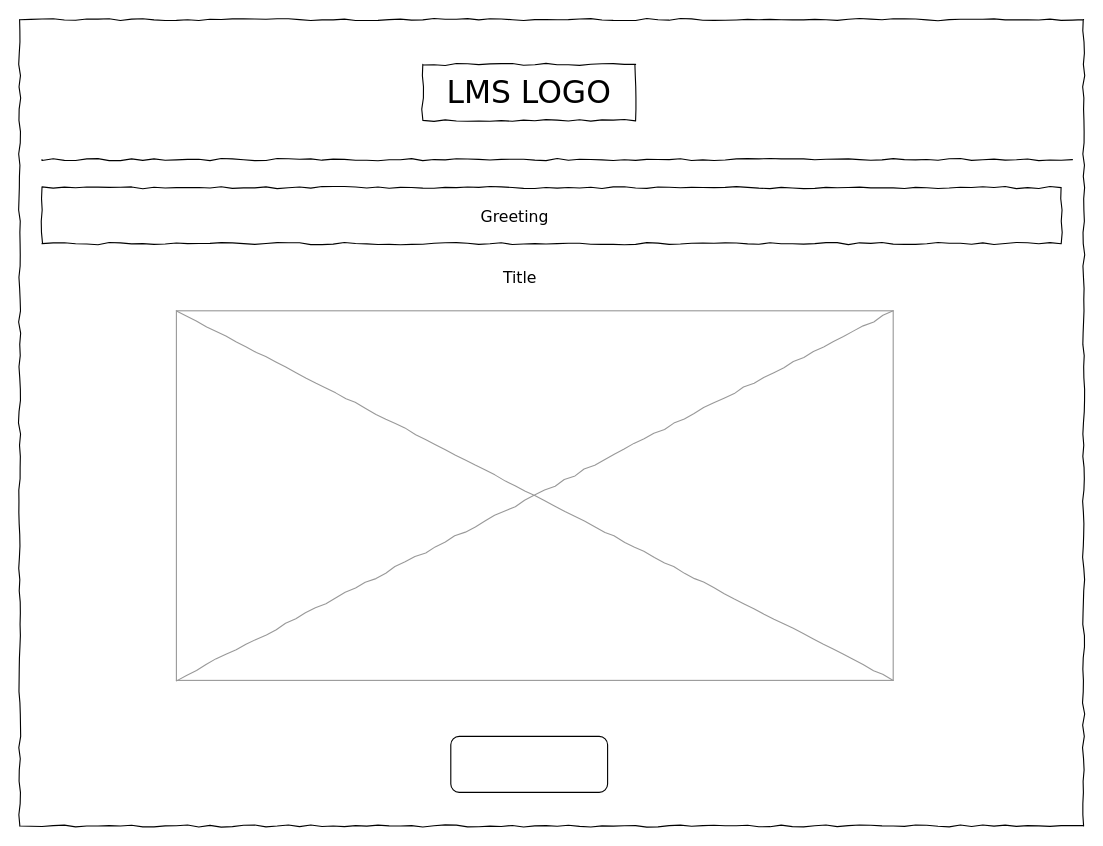
Image size: 1103x846. Some labels were removed from this diagram. The shapes that lost their labels are listed below. From the top down, each one's box as (x1, y1, x2, y2) in pixels, then its label:
(175, 310, 893, 680): Body
(450, 735, 608, 792): Action button
